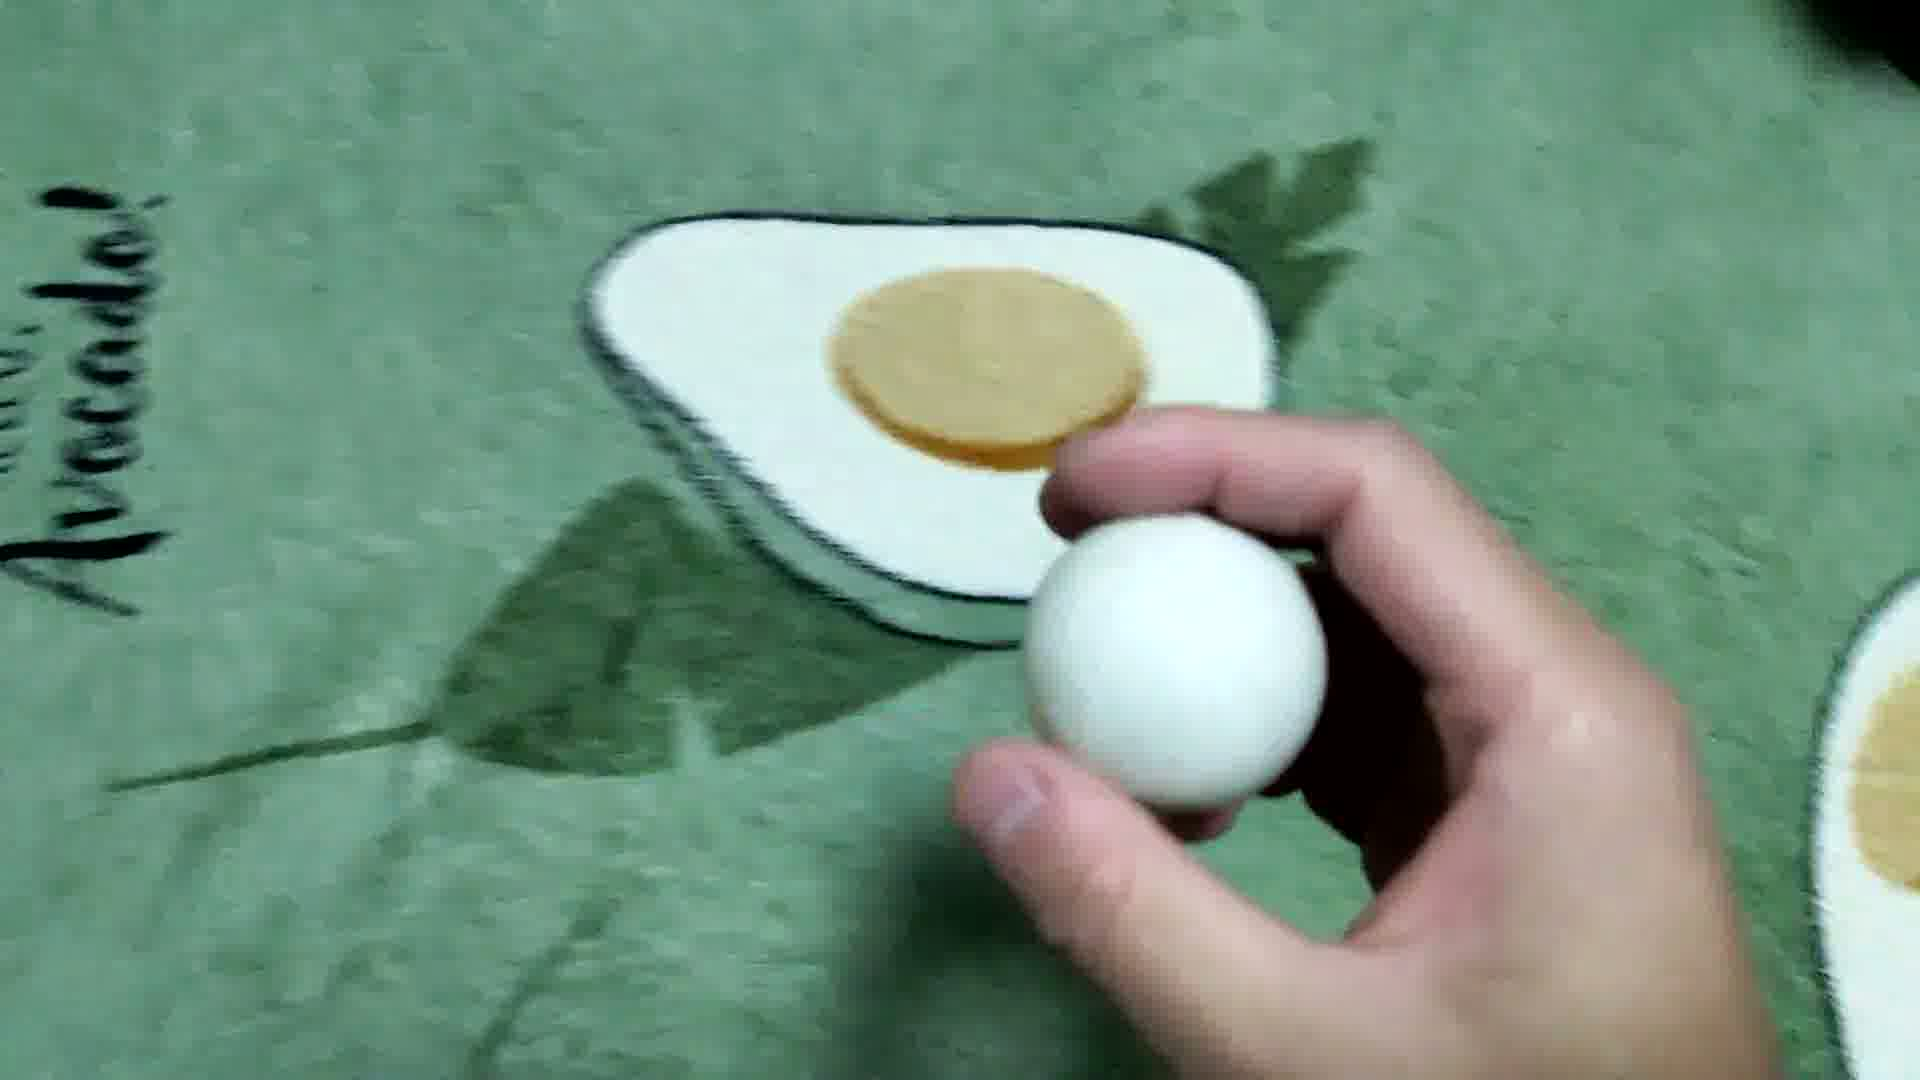Ball: (1025, 508, 1333, 808)
